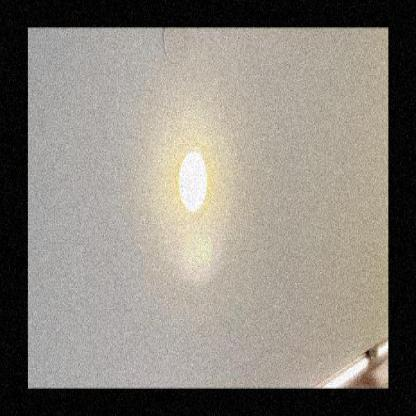light_on: (172, 136, 216, 218)
